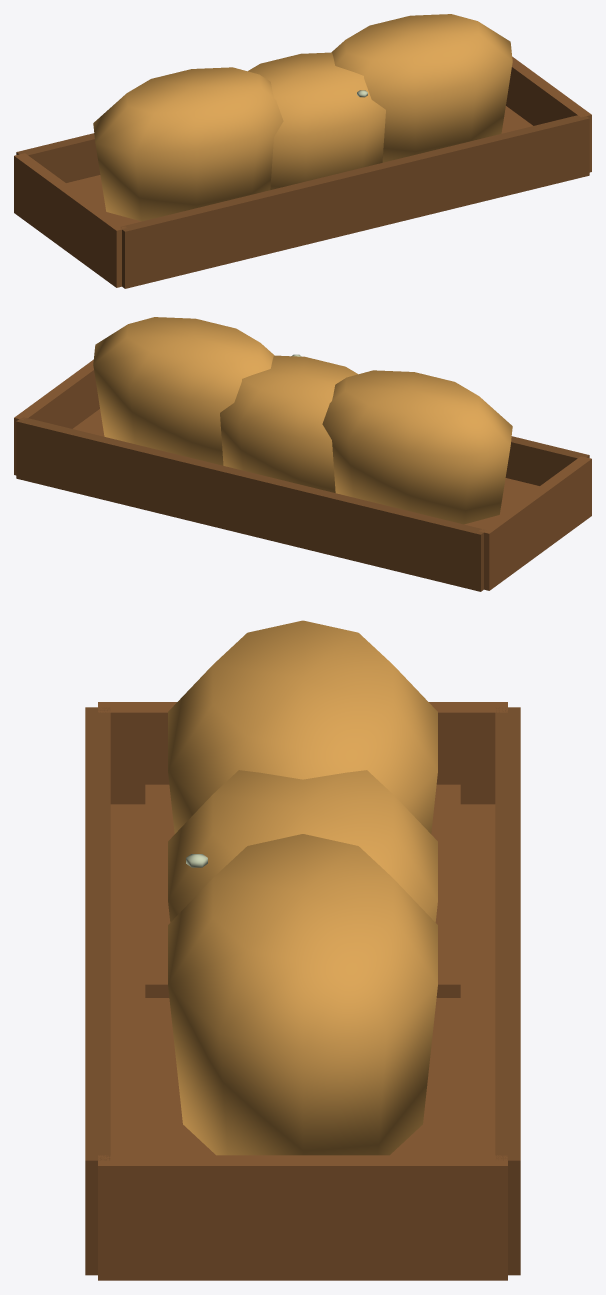
The model's file is Bread_Loaf.fbx.
3 views of the same model, one above another, from view 1: azimuth 30°, elevation 25°; view 2: azimuth 150°, elevation 25°; view 3: azimuth 270°, elevation 25° (orthographic). The views are drawn at different scales.
Parts seen in each view (by area): view 1: Bread_Loaf__Stack, Bread_Loaf; view 2: Bread_Loaf__Stack, Bread_Loaf; view 3: Bread_Loaf__Stack, Bread_Loaf.
Part boxes in pixels (x1=…): Bread_Loaf__Stack: x1=14, y1=14, x2=591, y2=288; Bread_Loaf: x1=248, y1=52, x2=385, y2=189; Bread_Loaf__Stack: x1=14, y1=317, x2=591, y2=591; Bread_Loaf: x1=220, y1=355, x2=357, y2=492; Bread_Loaf__Stack: x1=85, y1=620, x2=520, y2=1280; Bread_Loaf: x1=168, y1=770, x2=437, y2=922.
Bounding box in the file's own units: 0.348 × 0.092 × 0.138.
